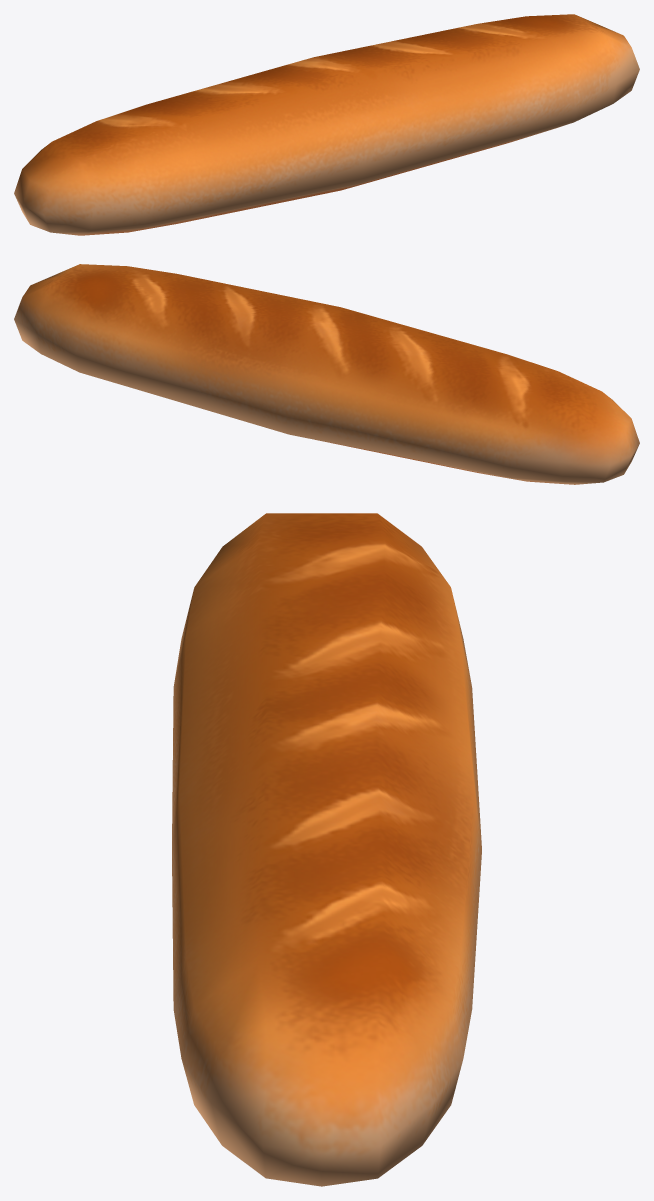
The model's file is French.fbx.
The picture shows the model from 3 angles, top to bottom: view 1: azimuth 30°, elevation 25°; view 2: azimuth 150°, elevation 25°; view 3: azimuth 270°, elevation 25°; orthographic projection. The views are drawn at different scales.
Visible parts, largest first — view 1: French; view 2: French; view 3: French.
Part boxes in pixels (<box>): French: <box>14,14,639,235</box>; French: <box>14,264,639,484</box>; French: <box>172,513,481,1186</box>.
Bounding box in the file's own units: 117 × 20.74 × 25.84.
